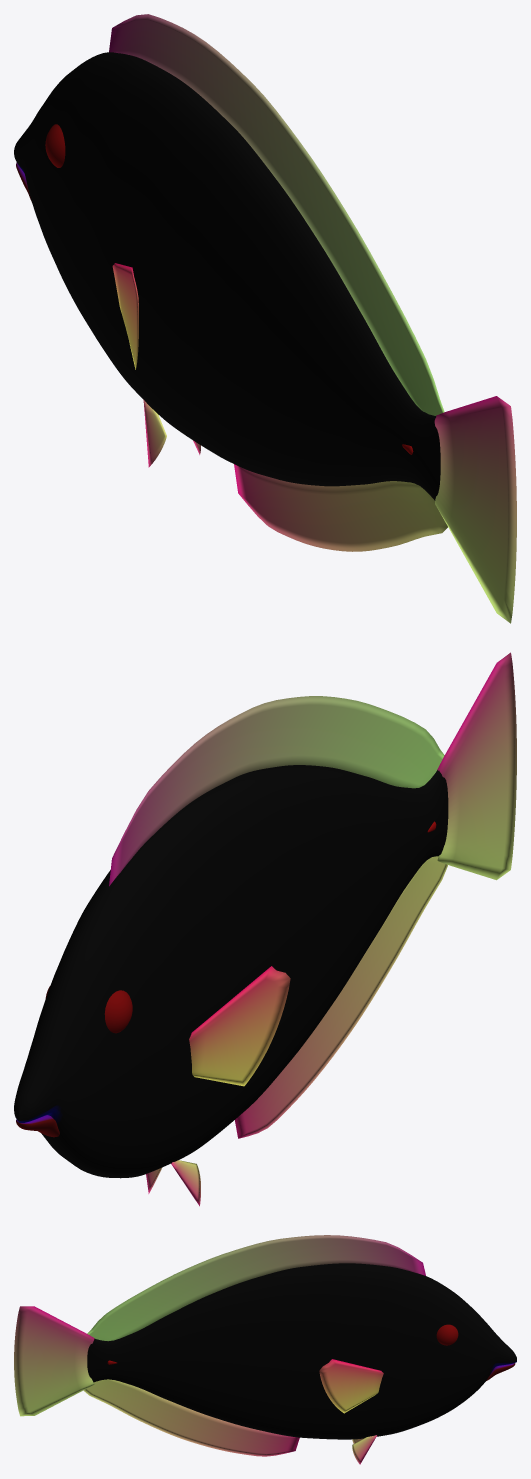
Rendered from surgeonfish_convict.glb.
The picture shows the model from 3 angles, top to bottom: view 1: azimuth 30°, elevation 25°; view 2: azimuth 150°, elevation 25°; view 3: azimuth 270°, elevation 25°; orthographic projection. The views are drawn at different scales.
Visible parts, largest first — view 1: surgeonfish_convict; view 2: surgeonfish_convict; view 3: surgeonfish_convict.
Part boxes in pixels (x1,y1,x2,y2): surgeonfish_convict: [14, 14, 516, 623]; surgeonfish_convict: [14, 652, 516, 1206]; surgeonfish_convict: [14, 1235, 516, 1464].
Bounding box in the file's own units: 0.043 × 0.1198 × 0.2442.
